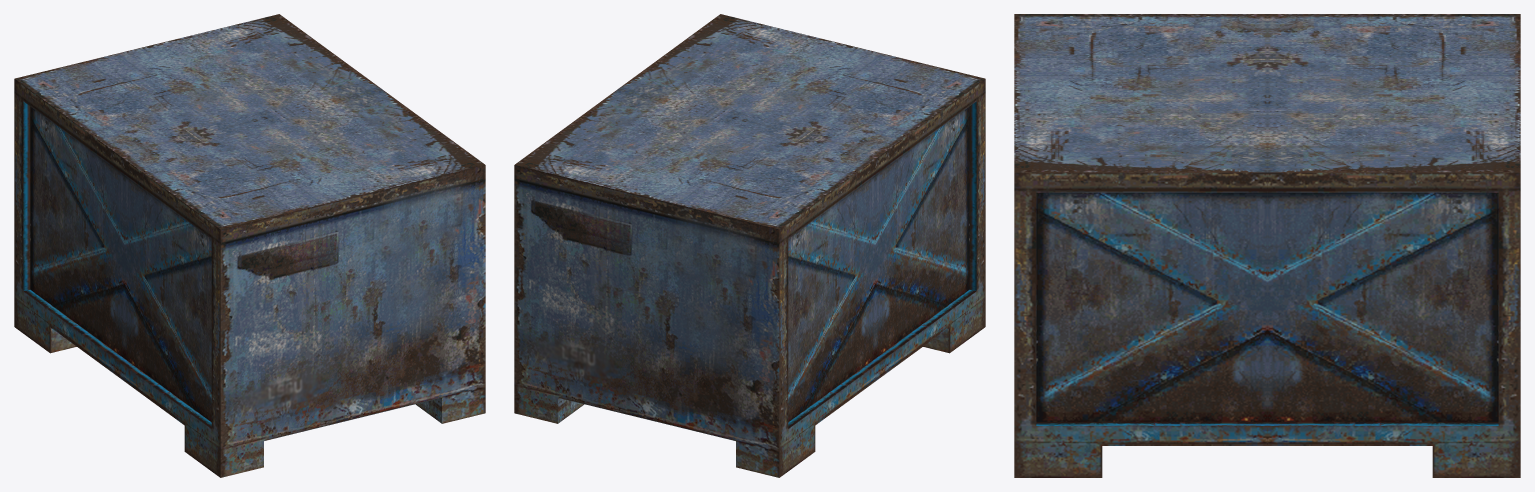
Rendered from Container.FBX.
The picture shows the model from 3 angles, left to right: view 1: azimuth 30°, elevation 25°; view 2: azimuth 150°, elevation 25°; view 3: azimuth 270°, elevation 25°; orthographic projection. The views are drawn at different scales.
Visible parts, largest first — view 1: Container; view 2: Container; view 3: Container.
Part boxes in pixels (x1,y1,x2,y2): Container: (14,14,485,477); Container: (514,14,985,477); Container: (1014,14,1520,477).
Size of the model in its own units: 1.68 by 1.5 by 2.26.
